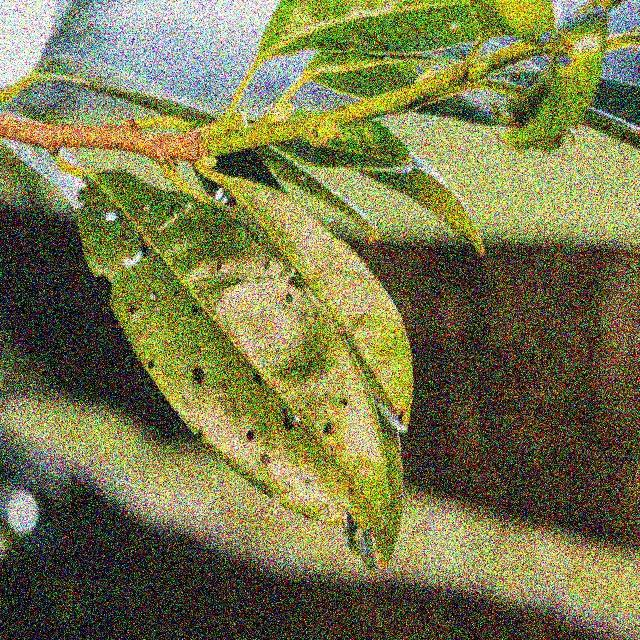shot_hole: (110, 114, 501, 592)
